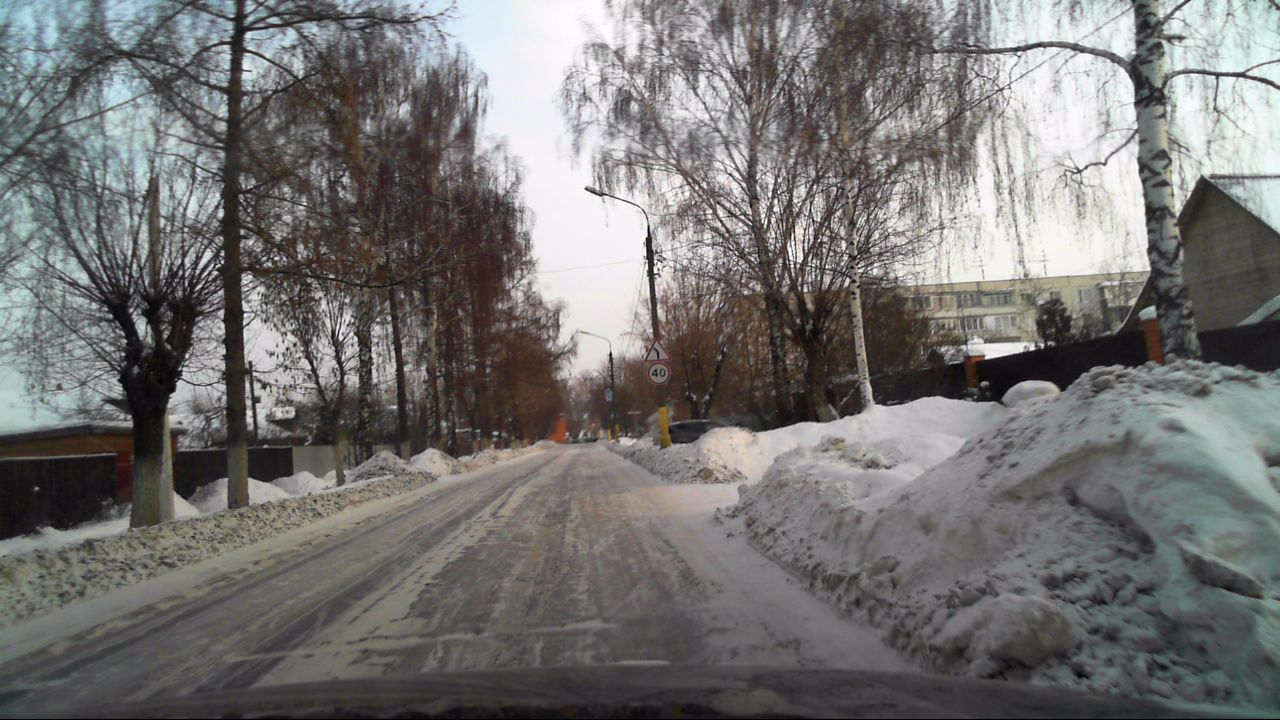speed_warning_40: (647, 364, 670, 385)
